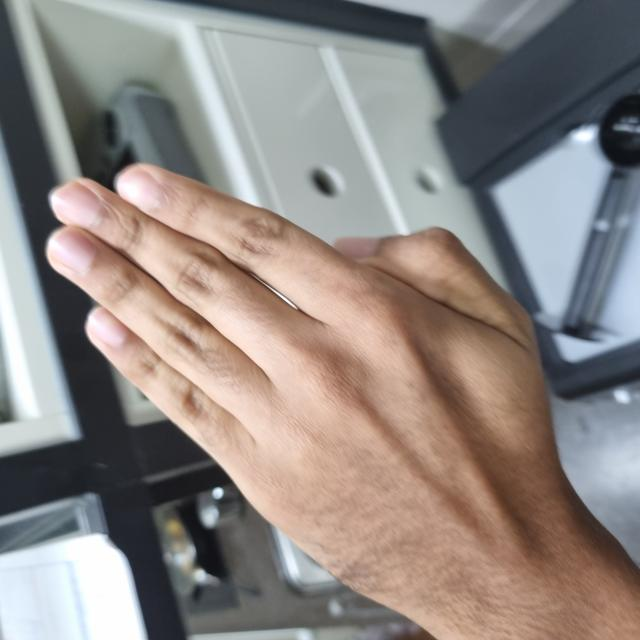Paper: (7, 50, 471, 564)
